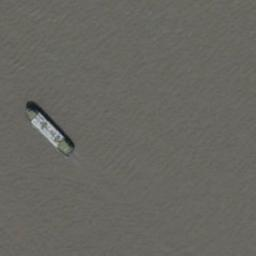boat: (24, 103, 75, 159)
